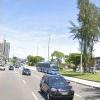cars: (37, 73, 75, 99), (22, 68, 31, 75)
